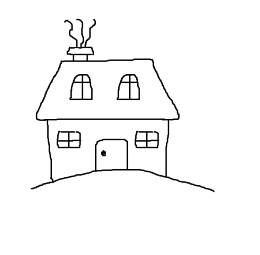closed_window: (108, 66, 144, 108), (60, 67, 95, 104), (54, 126, 86, 156), (131, 127, 161, 154)
door: (91, 131, 131, 178)
roof: (29, 54, 192, 125)
smoking_chimney: (47, 7, 108, 67)
wall: (39, 116, 179, 185)
